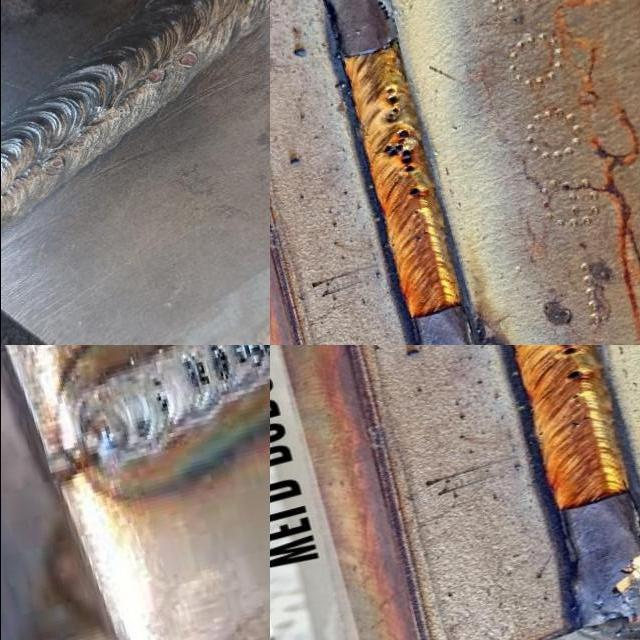defect: (375, 125, 418, 180), (180, 349, 214, 390), (205, 345, 237, 388), (228, 345, 269, 376), (381, 85, 405, 125), (150, 378, 174, 417), (175, 48, 199, 72), (142, 66, 167, 88), (374, 0, 396, 22), (41, 157, 67, 175), (69, 132, 92, 150), (406, 180, 423, 200), (571, 413, 593, 428), (113, 103, 132, 119), (561, 370, 584, 383), (570, 390, 584, 401)
